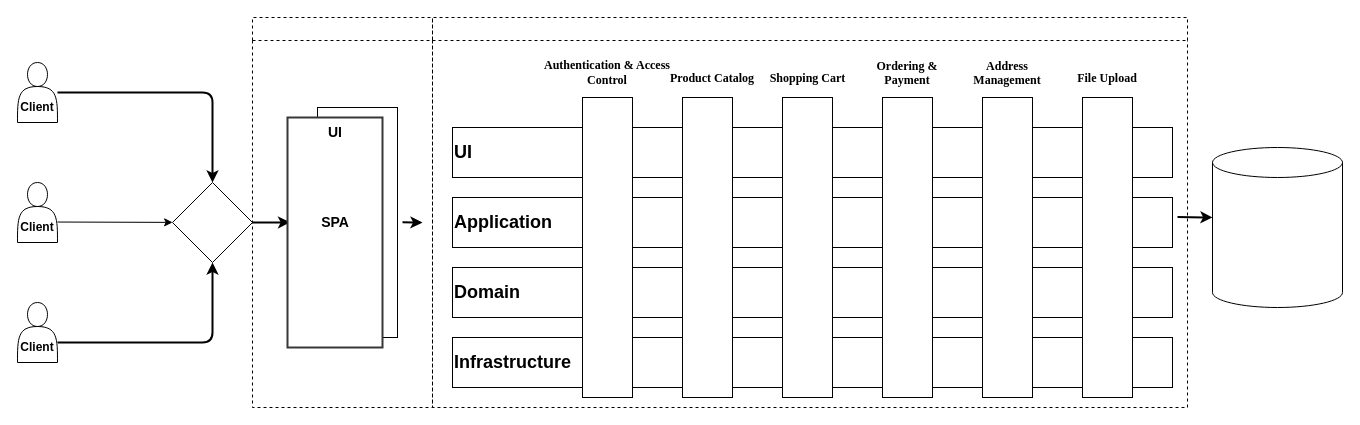
Image size: 1360x425. Some labels were removed from this diagram. The shapes that lost their labels are listed below. From the top down, each one's box as (x1, y1, x2, y2) in pixels, then its label:
(172, 182, 252, 262): Load balancer
(252, 16, 432, 408): Frontend
(432, 16, 1188, 408): Backend
(1212, 146, 1342, 308): RDBMS
